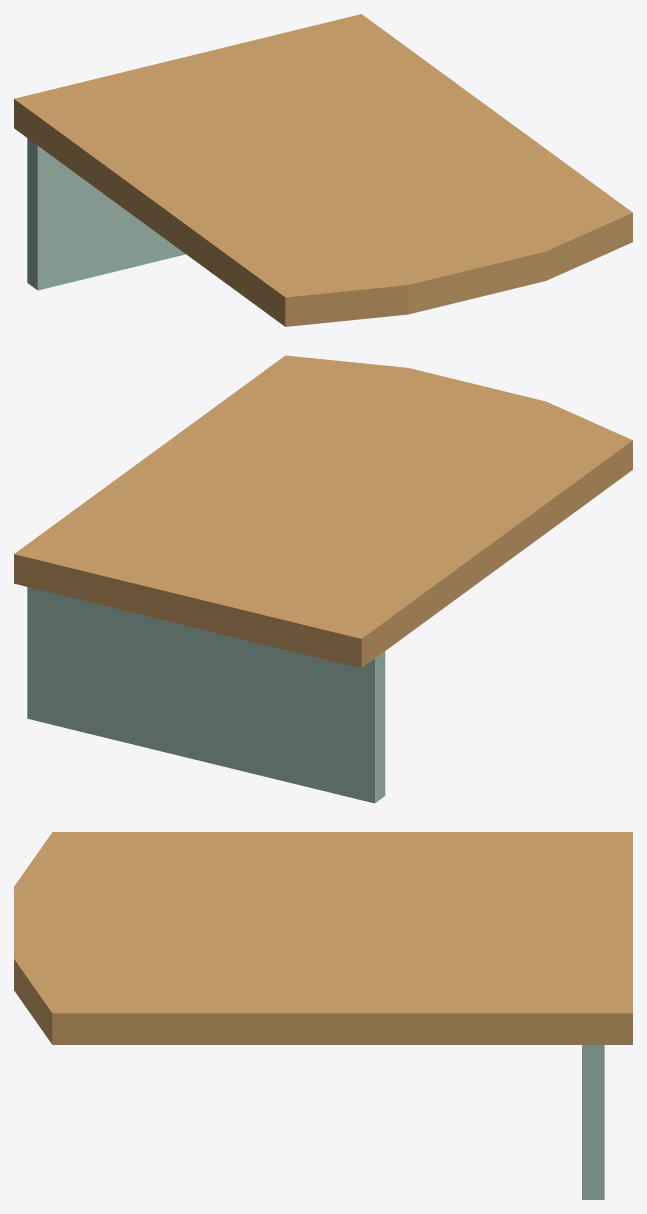
File: mirror.obj
3 views of the same model, one above another, from view 1: azimuth 30°, elevation 25°; view 2: azimuth 150°, elevation 25°; view 3: azimuth 270°, elevation 25° (orthographic). The views are drawn at different scales.
Parts seen in each view (by area): view 1: mirror; view 2: mirror; view 3: mirror.
Boxes of the visible parts, box(x1,y1,x2,y2) form: mirror: box(14, 14, 632, 326); mirror: box(14, 355, 632, 803); mirror: box(14, 832, 632, 1199).
Size of the model in its own units: 20.8 by 9.97 by 30.
